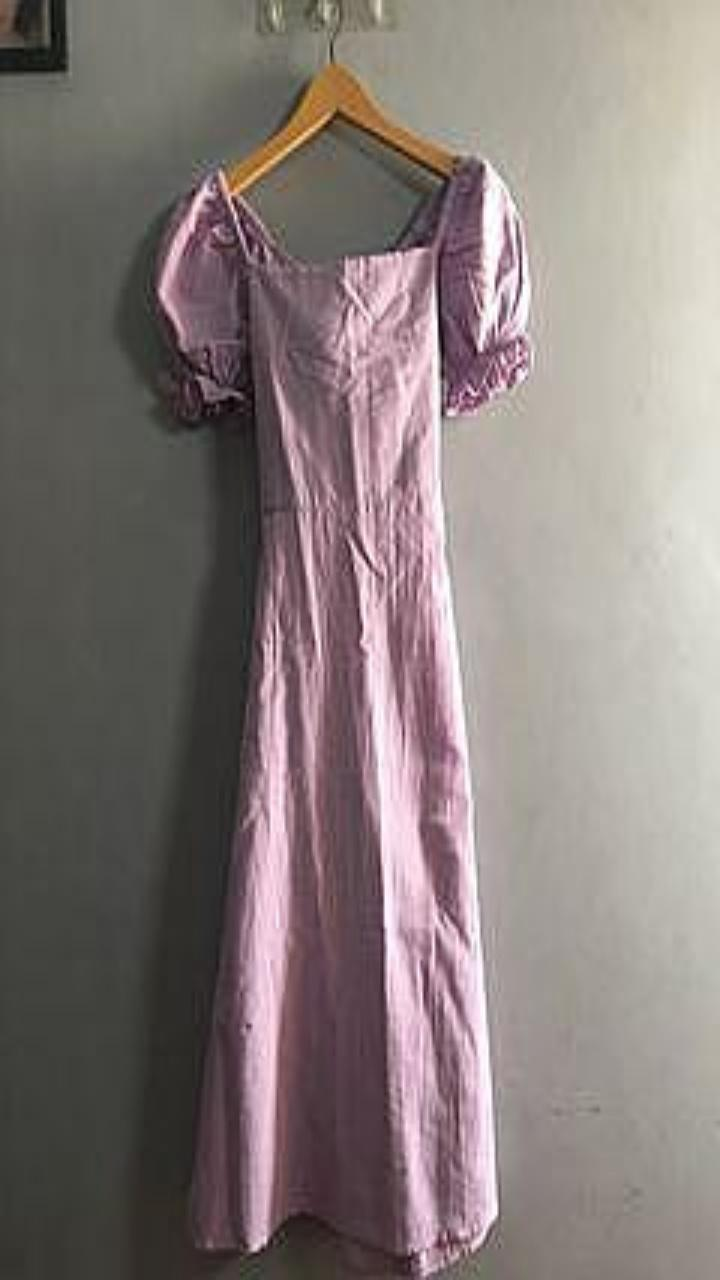Dresses: (154, 155, 532, 1275)
